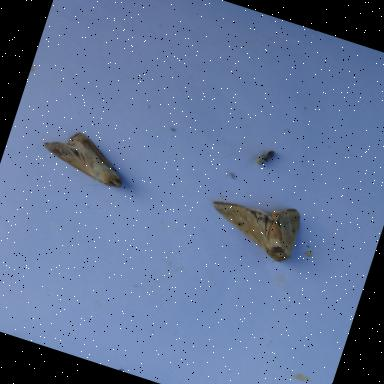abw: (198, 184, 308, 268), (32, 121, 136, 201)
